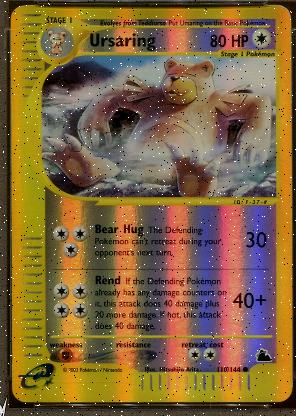Card: (10, 4, 292, 404)
